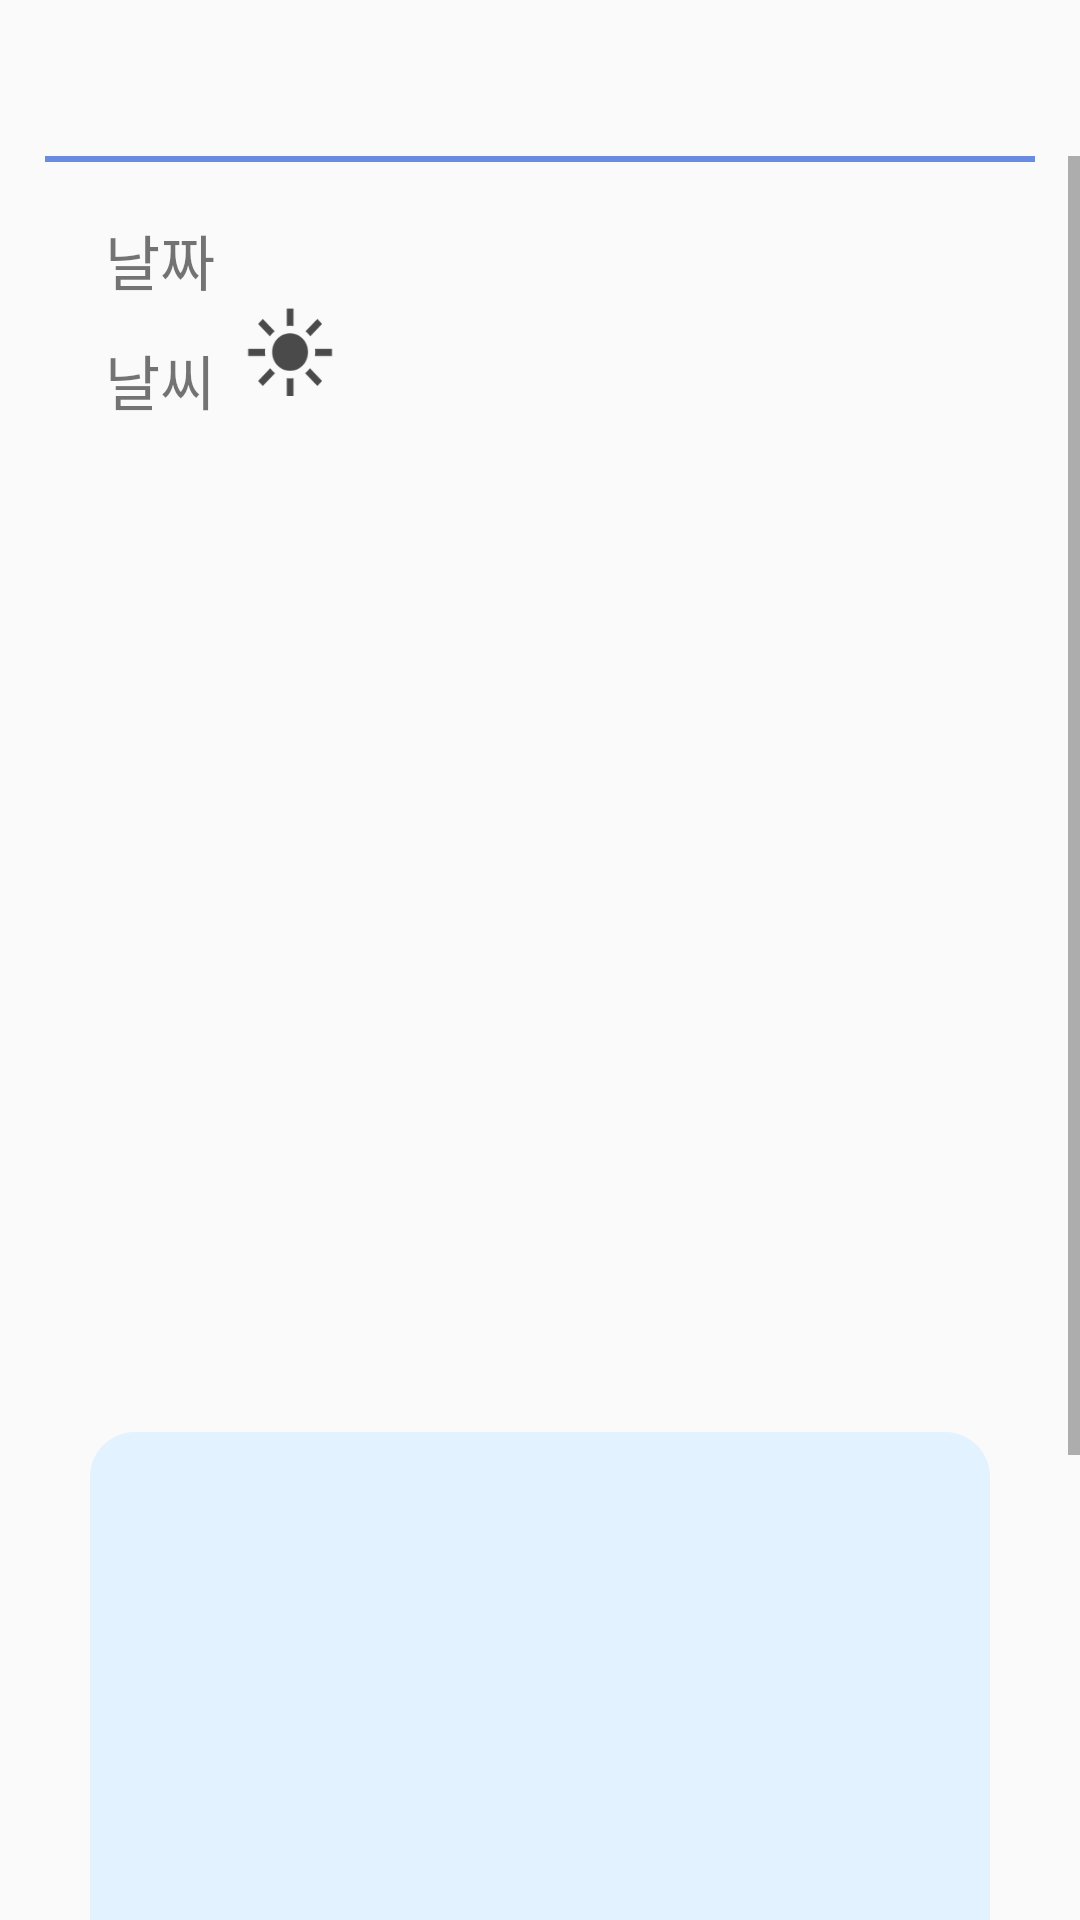

Where icons sit on this 1080px x 1920px app screen, as (x1, y1, x2, y2):
sunny: (248, 308, 333, 396)
